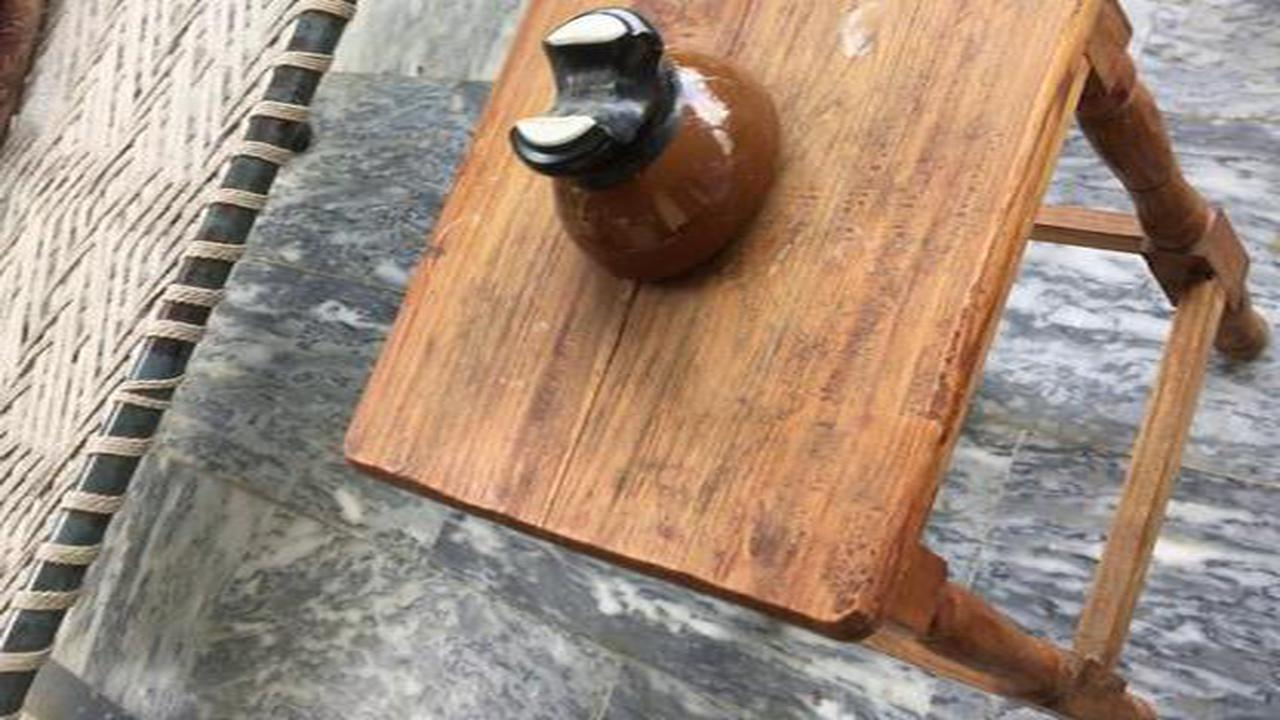insulator_pin: (490, 2, 804, 302)
